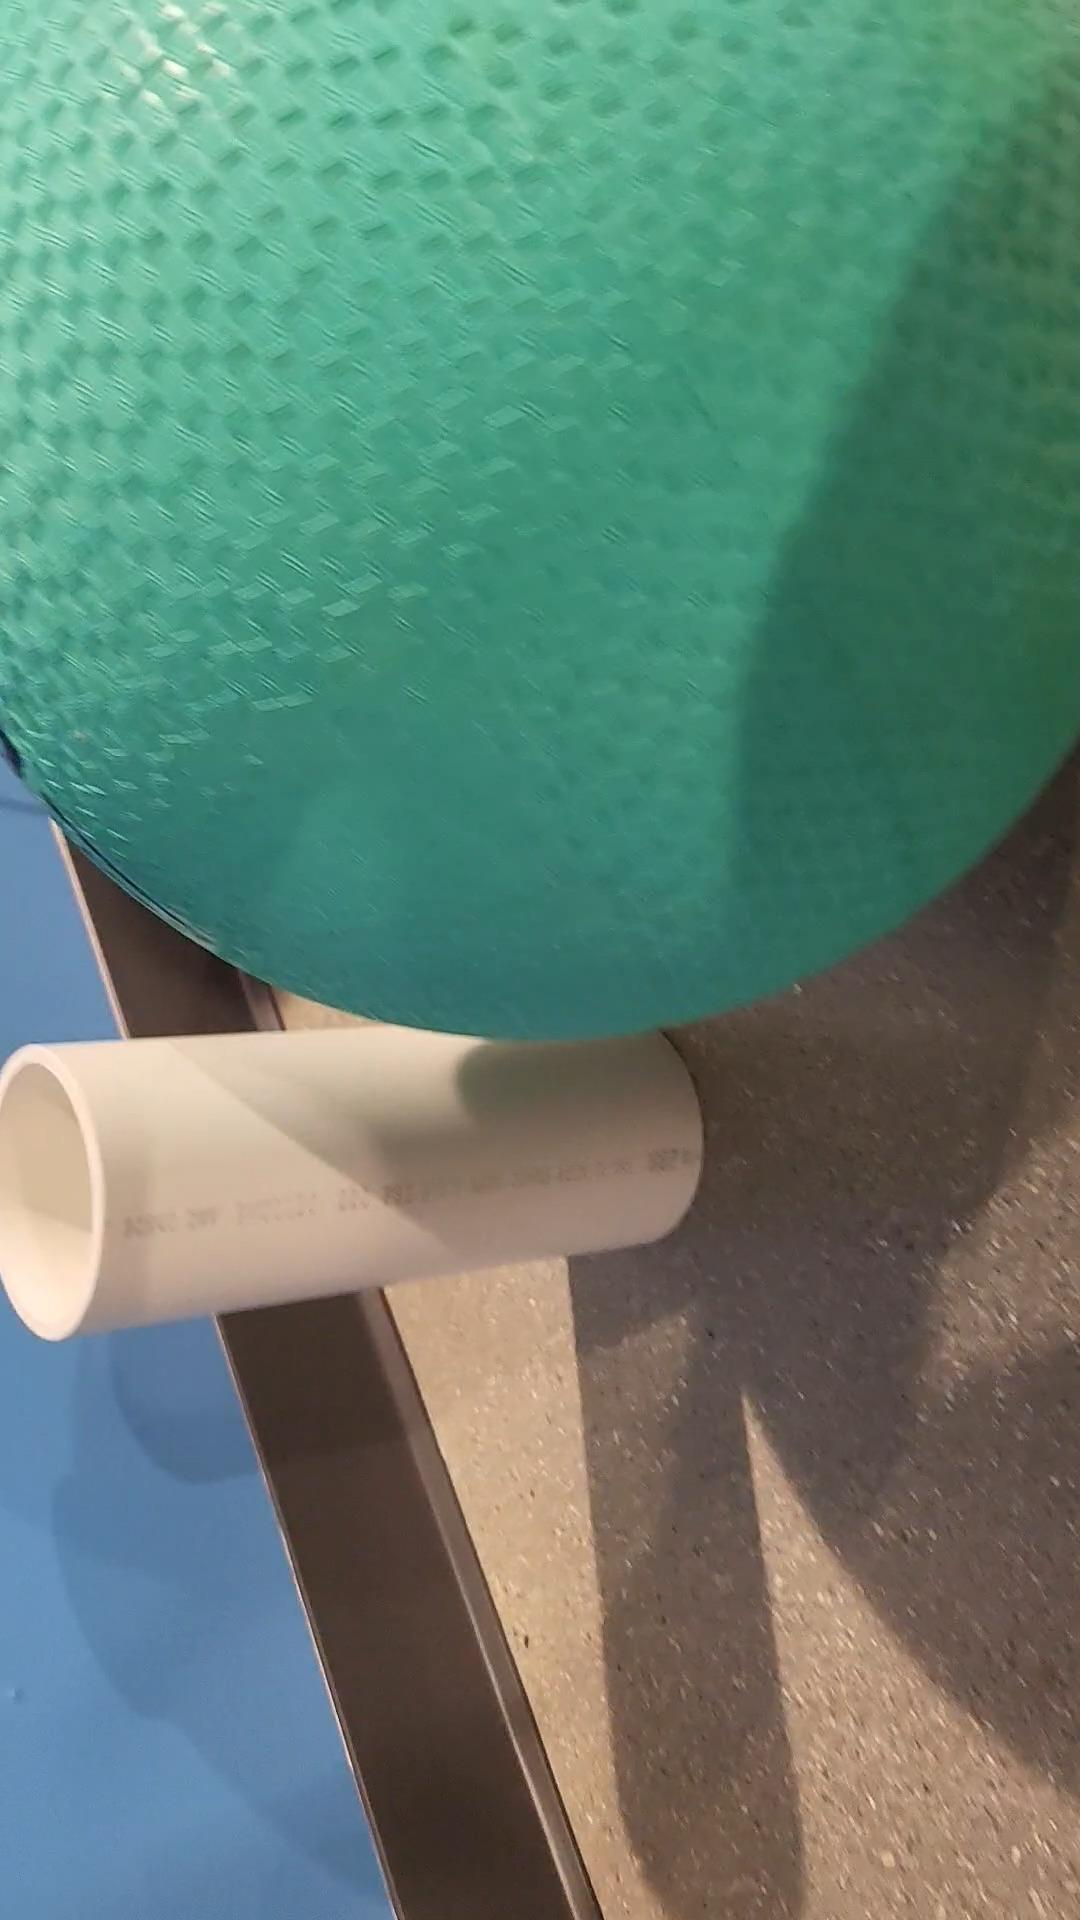algae: (0, 0, 1080, 1040)
coral: (0, 1001, 716, 1353)
